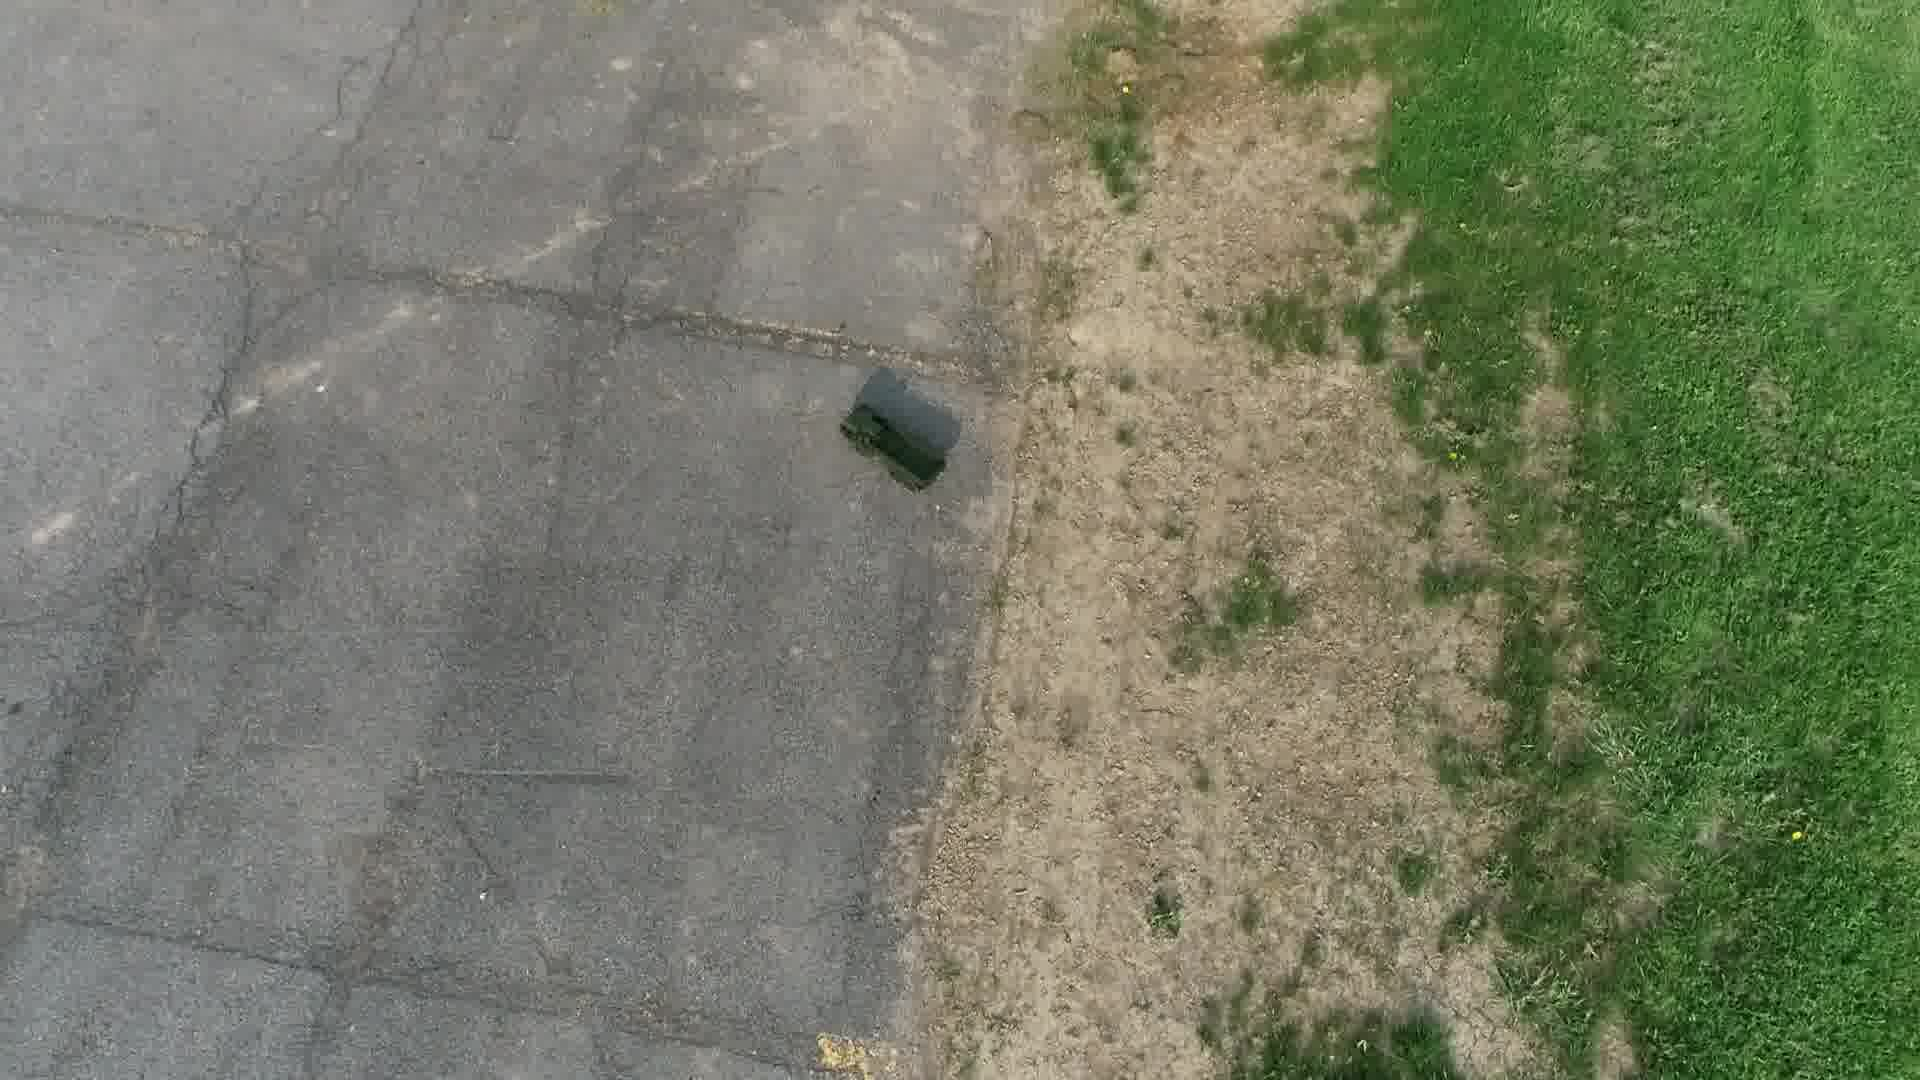transporter9: (835, 401, 948, 497)
